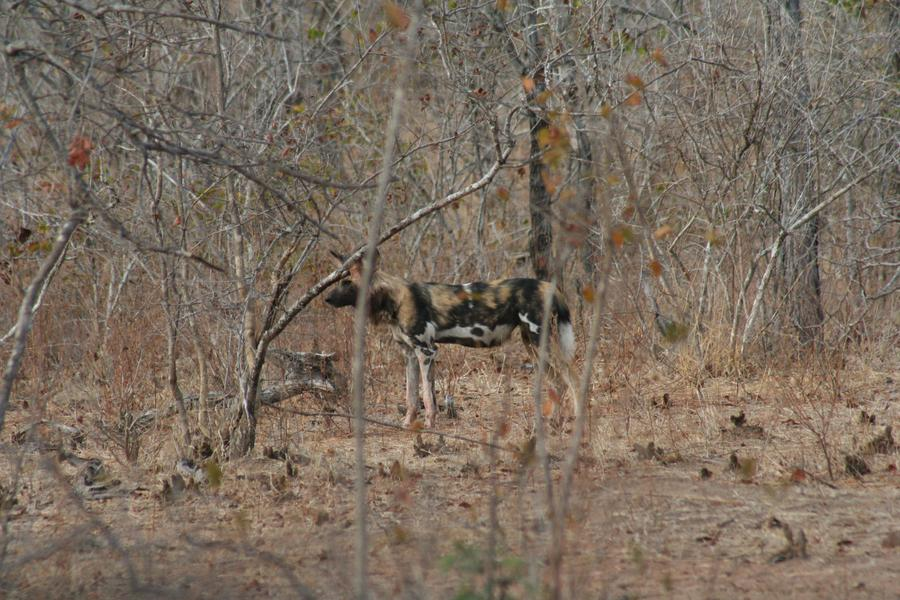wilddog: (324, 243, 568, 373)
